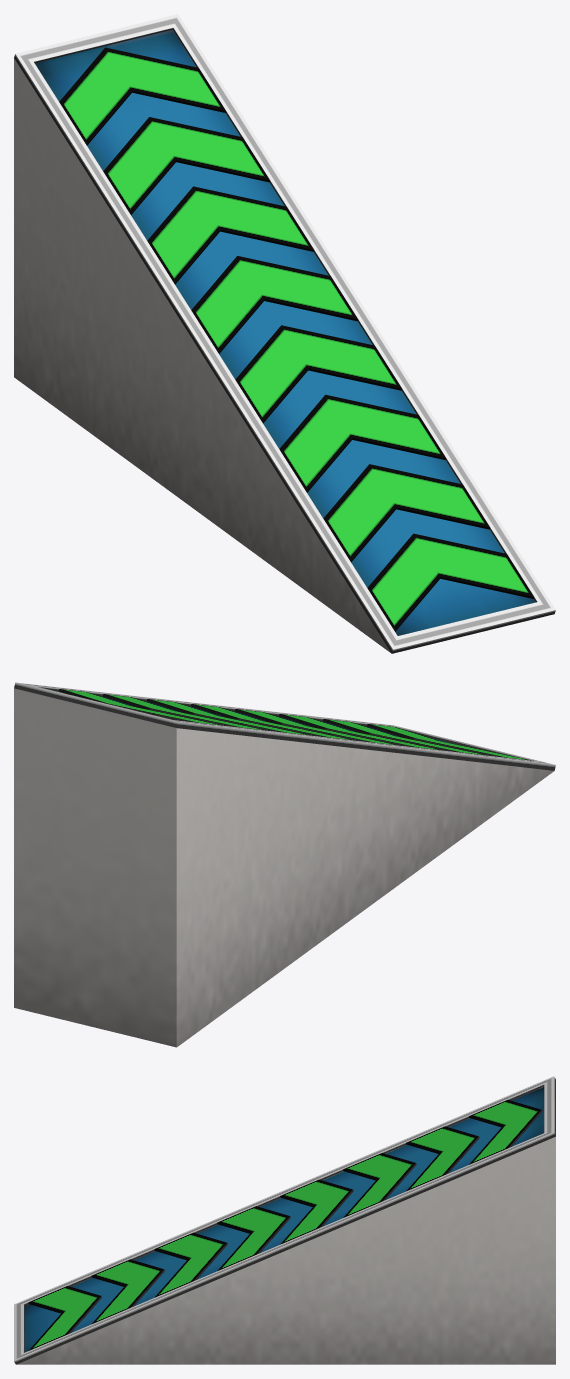
File: JumpAscent01.FBX
3 renders of one model, top to bottom at view 1: azimuth 30°, elevation 25°; view 2: azimuth 150°, elevation 25°; view 3: azimuth 270°, elevation 25°, orthographic. The views are drawn at different scales.
Visible parts, largest first — view 1: JumpAscent01; view 2: JumpAscent01; view 3: JumpAscent01.
Boxes of the visible parts, x1=… form: JumpAscent01: x1=14, y1=14, x2=555, y2=653; JumpAscent01: x1=14, y1=682, x2=555, y2=1047; JumpAscent01: x1=14, y1=1076, x2=555, y2=1364.
Bounding box in the file's own units: 80 × 152 × 323.
